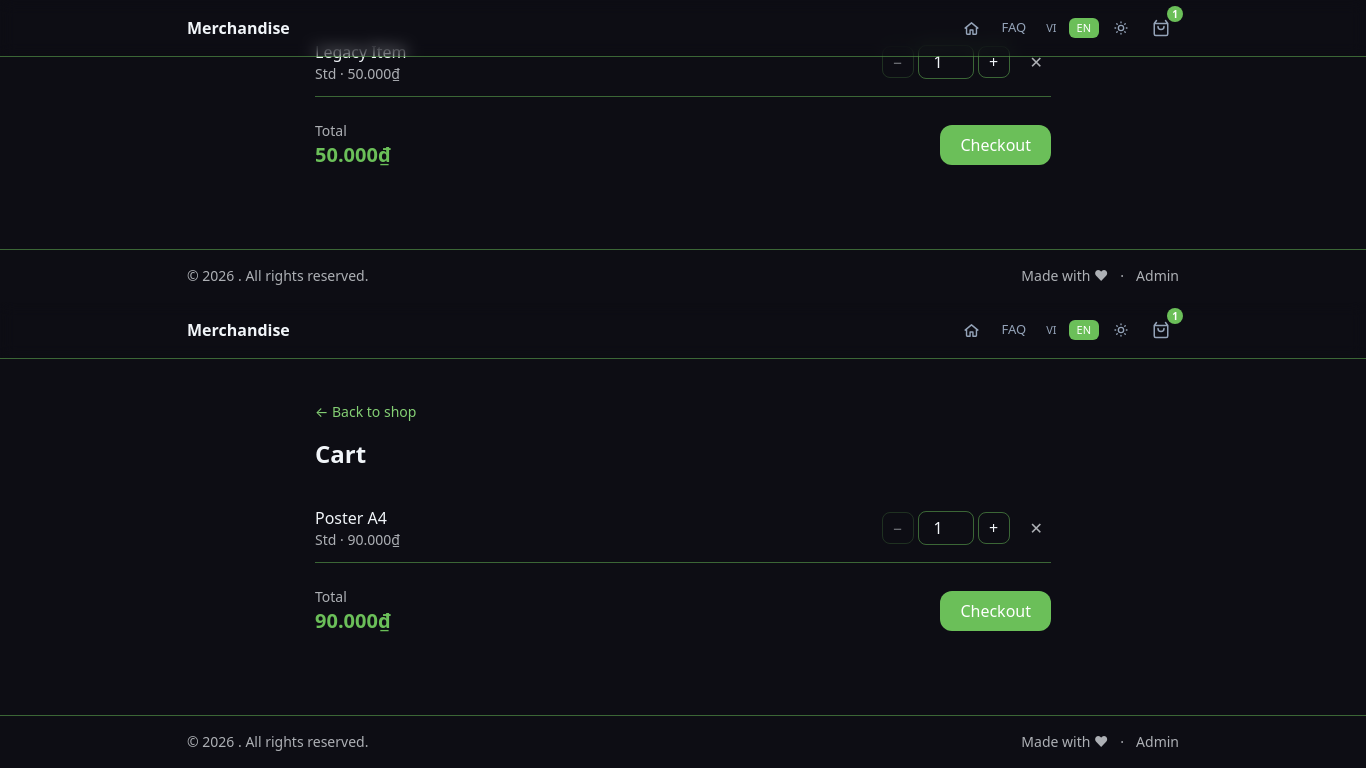
Cart - removing an item › shows a confirm popup naming the item, and keeps it when Cancel is clicked
(page scrolled)
Click the 2nd button "✕" at (1036, 528), box [1022,516,1051,540]
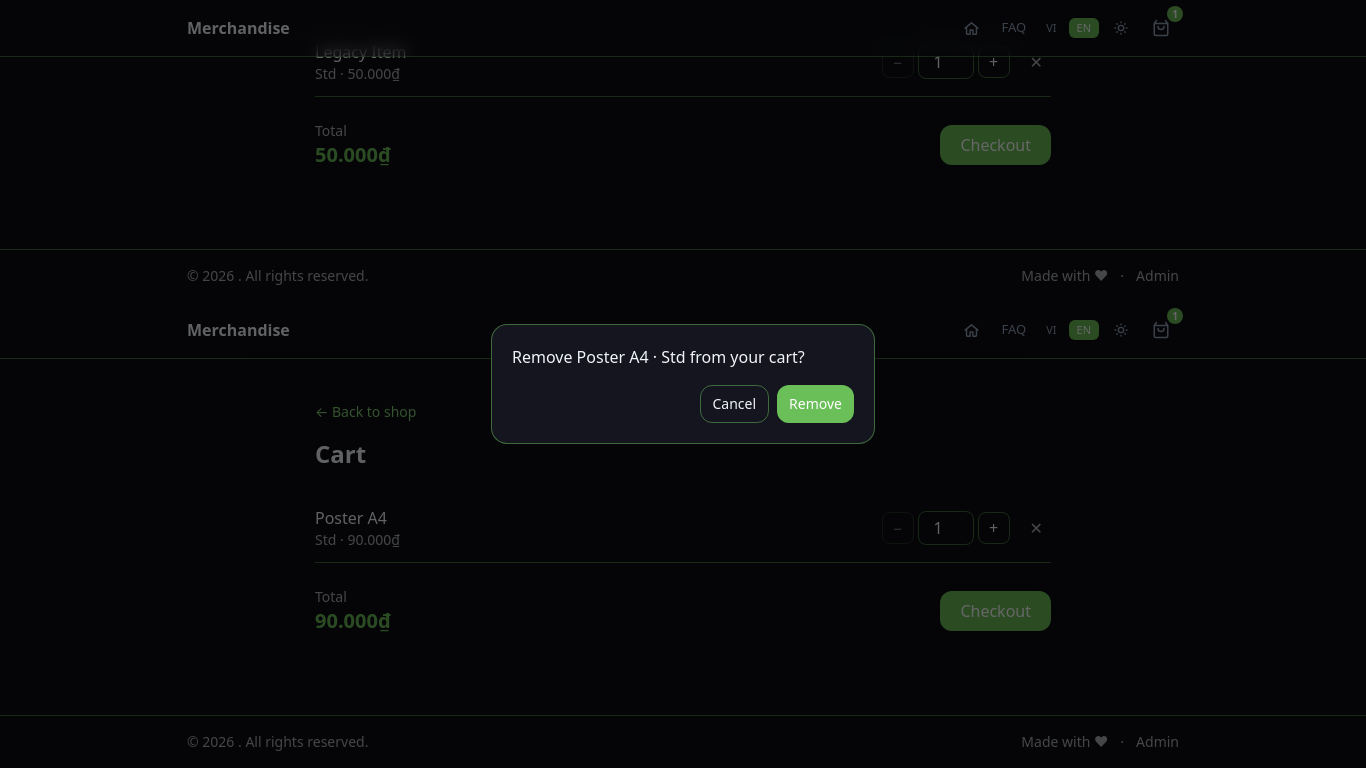
Expected: the dialog is shown
Expected: the dialog shows "Poster A4 · Std", [512,346,805,368]
Click the button "Cancel" at (734, 404), box [700,385,769,423]
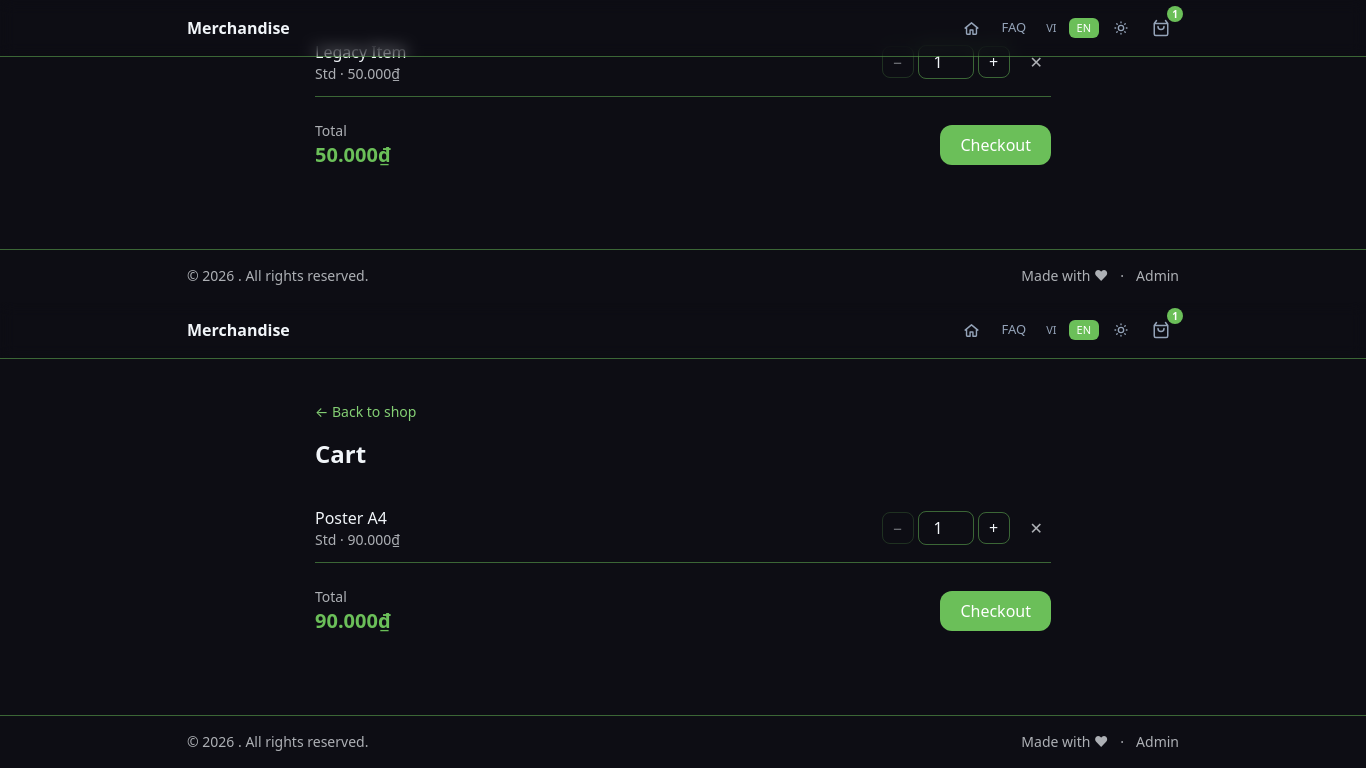
Expected: the dialog is gone
